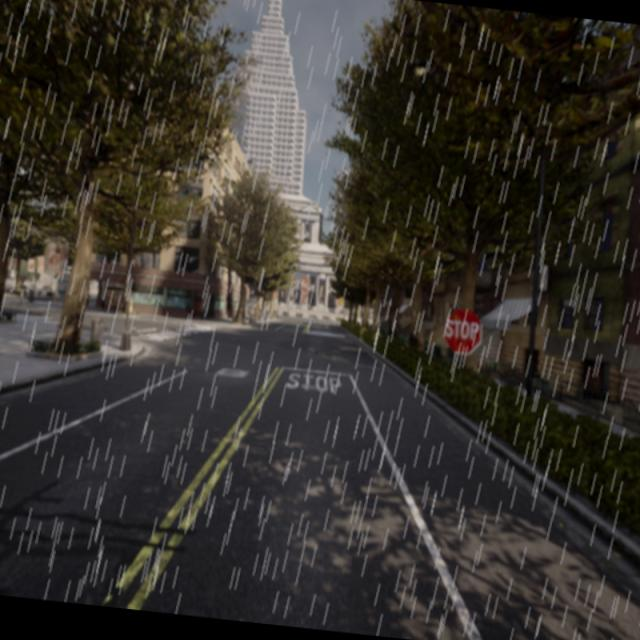stop sign: (441, 304, 483, 357)
